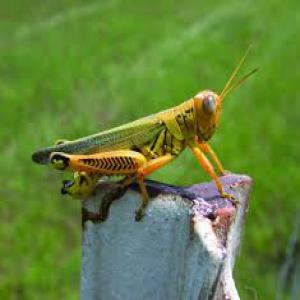locust: (44, 58, 249, 215)
